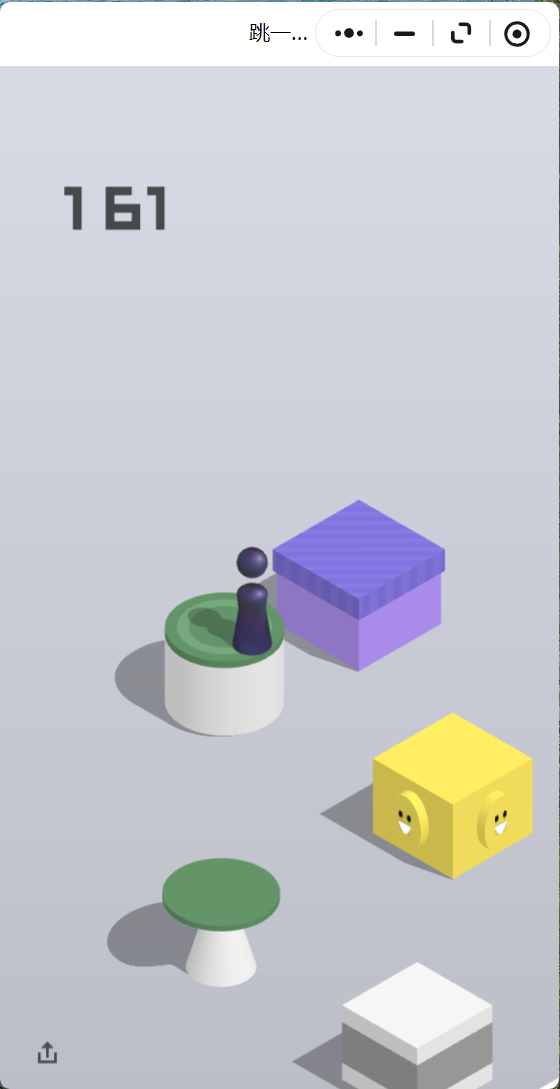piece: (237, 547, 267, 650)
target: (272, 499, 445, 598)
